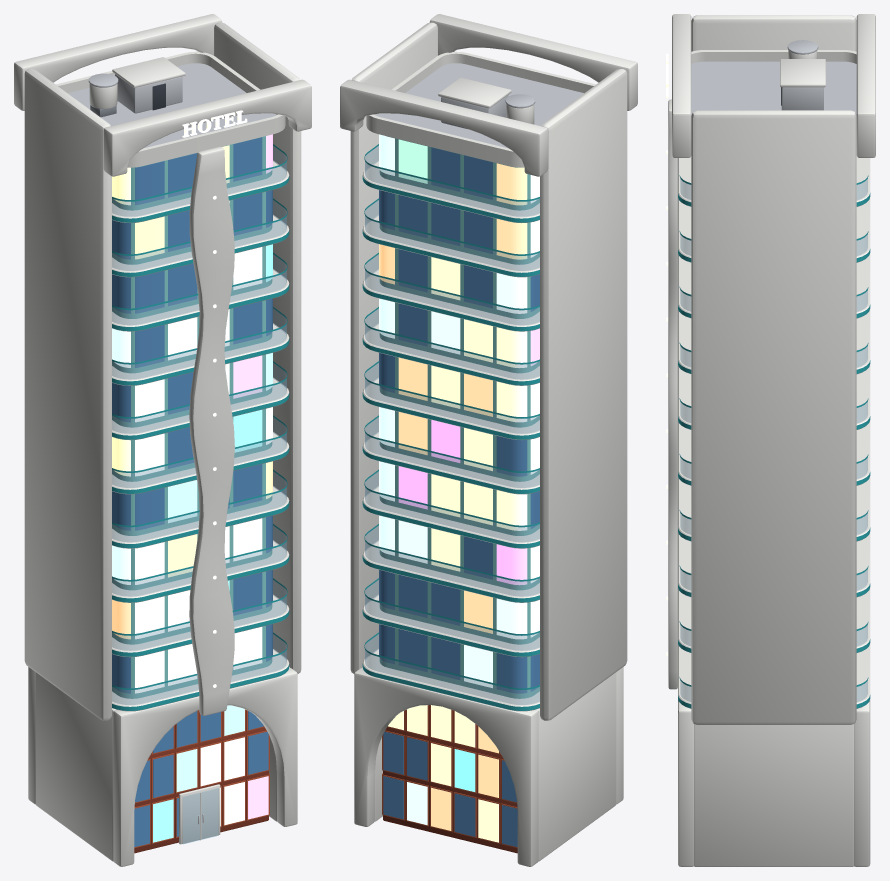
The model's file is torre_branca_turquesa.glb.
3 views of the same model, side by side, from view 1: azimuth 30°, elevation 25°; view 2: azimuth 150°, elevation 25°; view 3: azimuth 270°, elevation 25° (orthographic). The views are drawn at different scales.
Parts seen in each view (by area): view 1: torre_branca_turquesa; view 2: torre_branca_turquesa; view 3: torre_branca_turquesa.
Part boxes in pixels (bbox=[...]): torre_branca_turquesa: bbox=[14, 14, 311, 866]; torre_branca_turquesa: bbox=[340, 14, 637, 866]; torre_branca_turquesa: bbox=[666, 14, 875, 866].
Size of the model in its own units: 12.4 by 43.6 by 10.92.
Materials: 10 (1 with a texture image).
